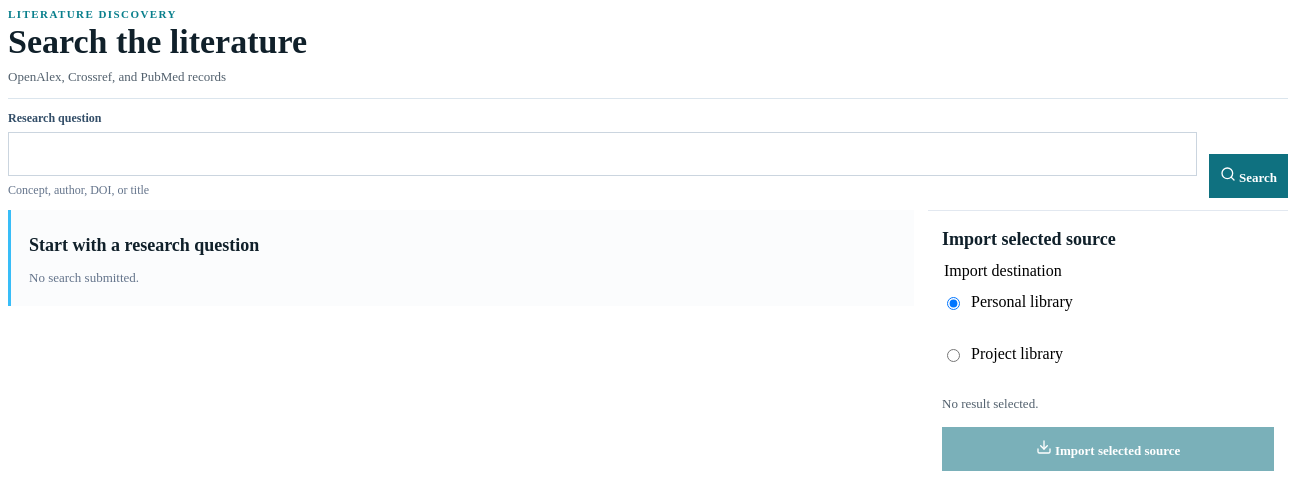
LiteratureSearchPage › aborts a stale search and leaves only the newest result visible
This screenshot has width=1305, height=488.
Type "first query" into the field with test id "literature-search-query" at point(602, 154), box [8,132,1197,176]
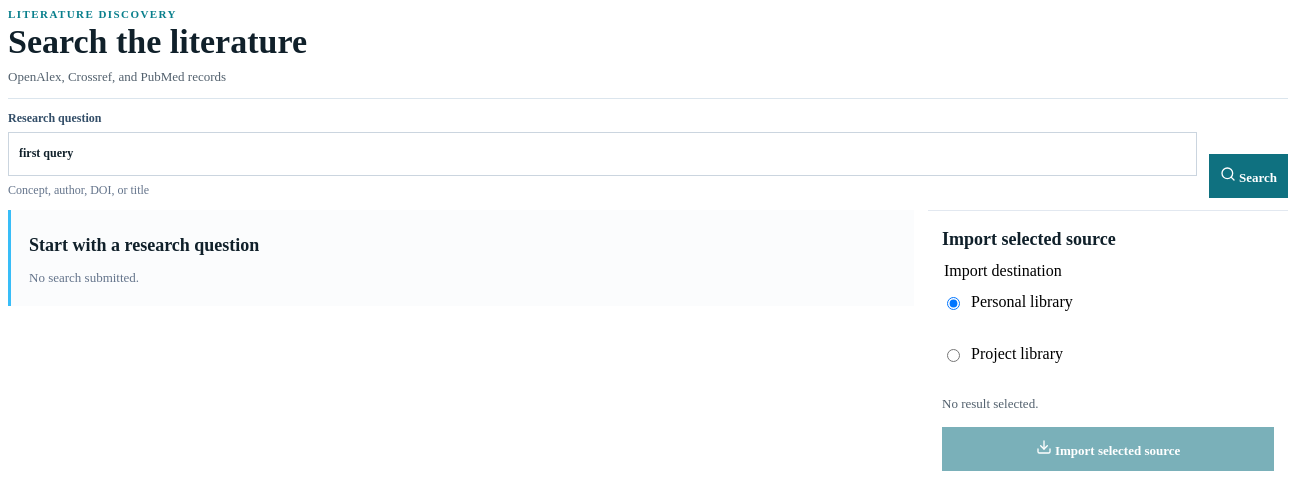
Submit the form with test id "literature-search-submit", box [8,110,1288,198]
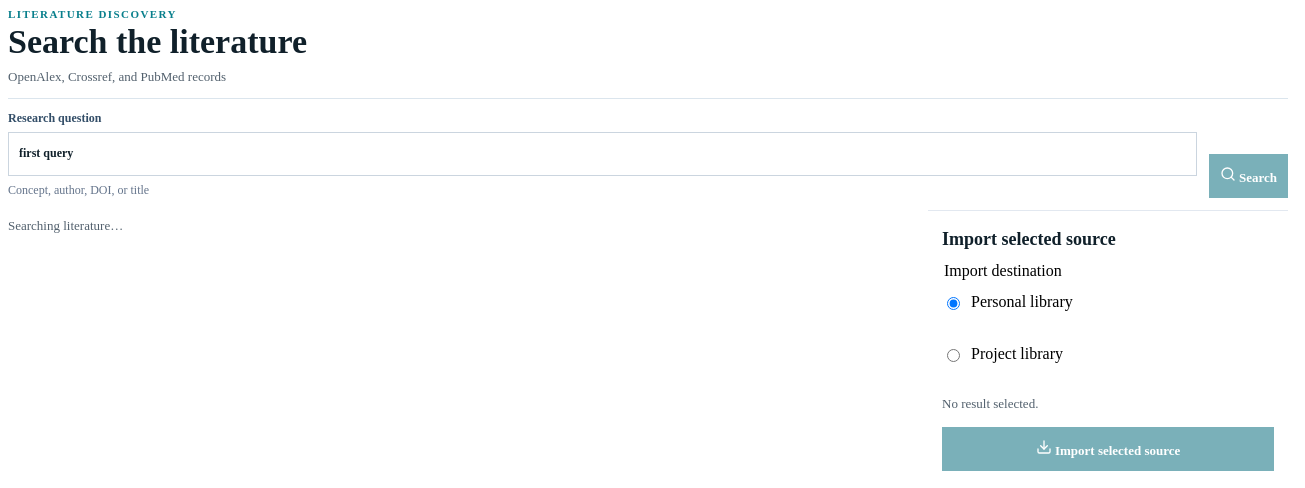
Replace the text in the field with test id "literature-search-query" with "second query" at point(602, 154), box [8,132,1197,176]
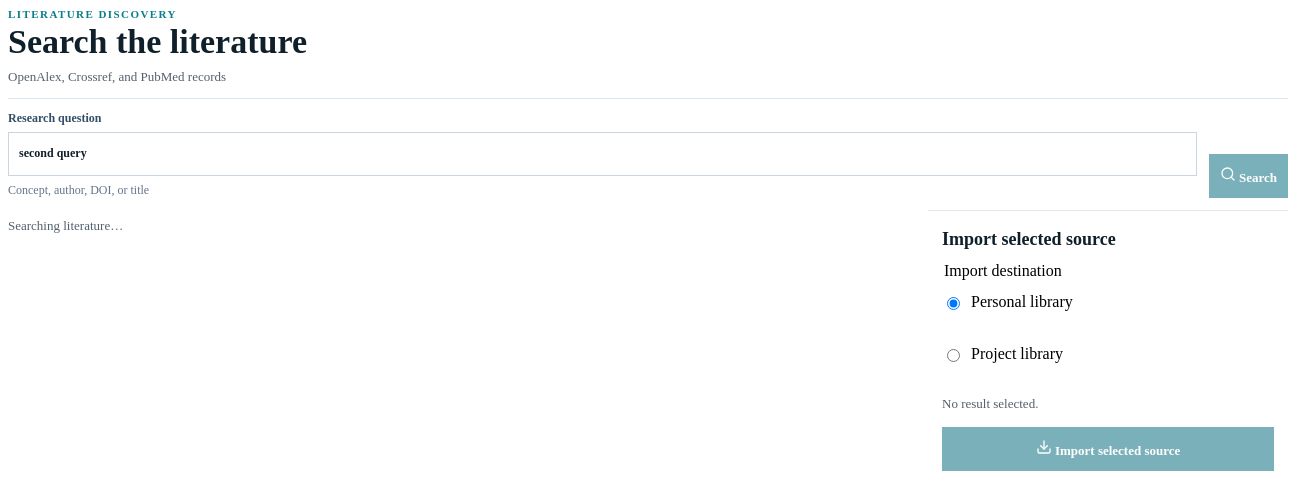
Submit the form with test id "literature-search-submit", box [8,110,1288,198]
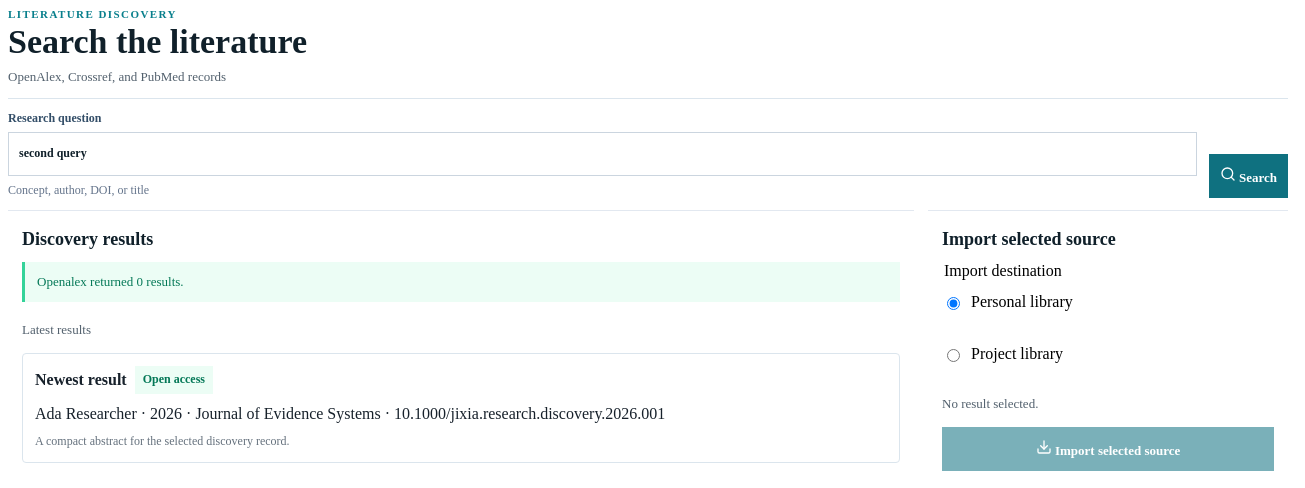
Now the text "Newest result" is shown, box [35,368,127,392]
